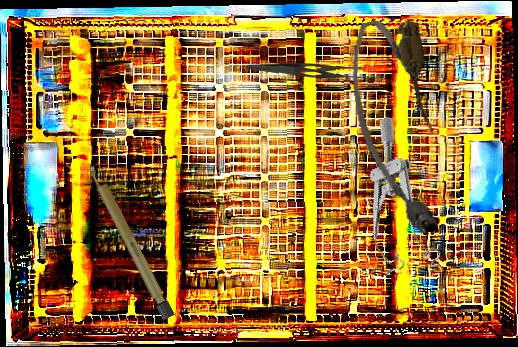Cannula: (343, 14, 452, 241)
Dressing Forceps: (244, 61, 371, 84)
Scalpel Handle: (85, 161, 176, 321)
Speculum: (327, 115, 456, 289)
